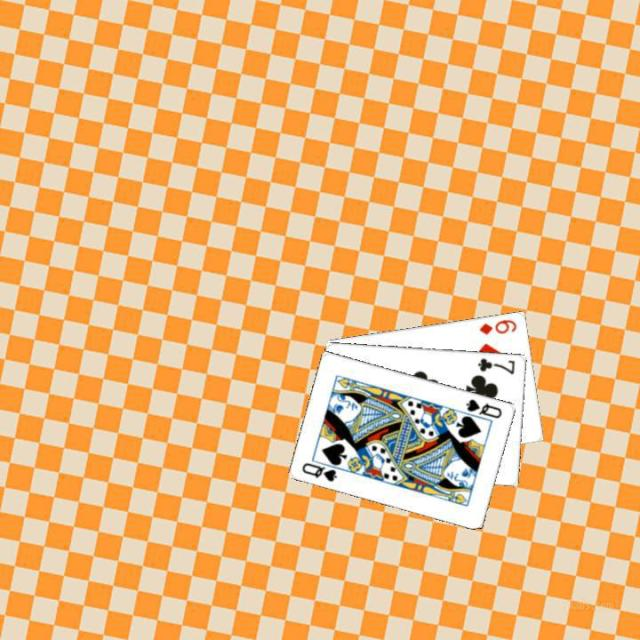6D: (476, 315, 518, 336)
7C: (475, 354, 517, 376)
QS: (462, 394, 504, 420), (298, 458, 338, 484)
